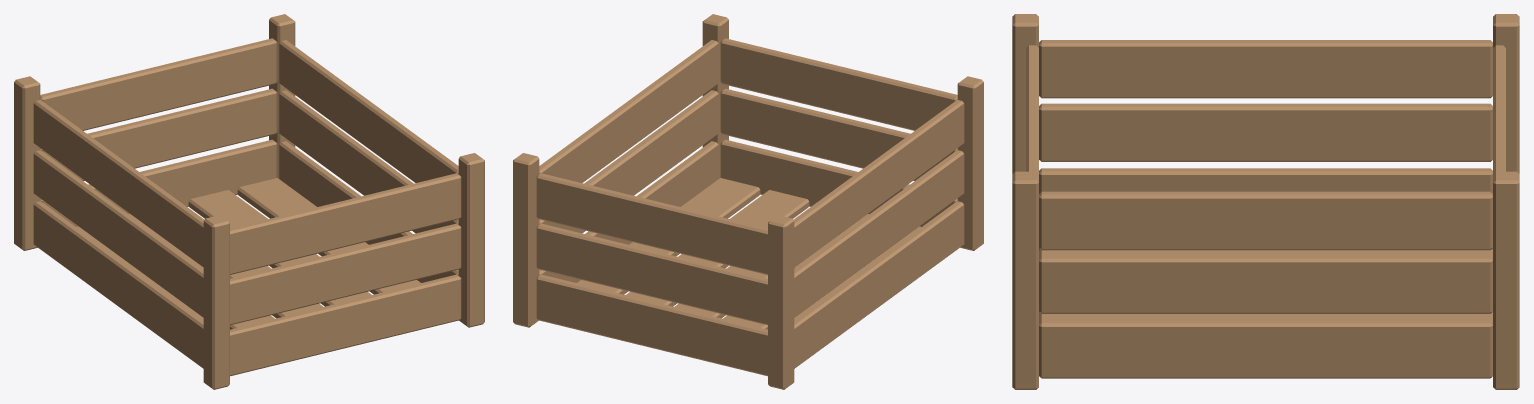
File: Crate-col.glb
3 views of the same model, side by side, from view 1: azimuth 30°, elevation 25°; view 2: azimuth 150°, elevation 25°; view 3: azimuth 270°, elevation 25° (orthographic). The views are drawn at different scales.
Visible parts, largest first — view 1: Crate-col; view 2: Crate-col; view 3: Crate-col.
Part boxes in pixels (x1=…): Crate-col: x1=14, y1=14, x2=484, y2=389; Crate-col: x1=513, y1=14, x2=983, y2=389; Crate-col: x1=1012, y1=14, x2=1519, y2=389.
Bounding box in the file's own units: 0.6537 × 0.3786 × 0.8302.
